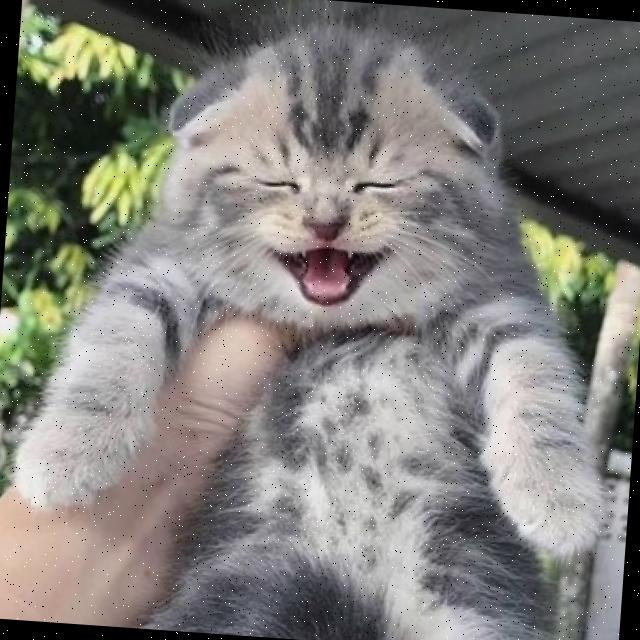Happy: (192, 127, 465, 355)
